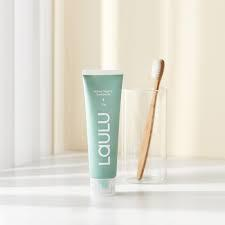toothpaste: (77, 67, 126, 198)
